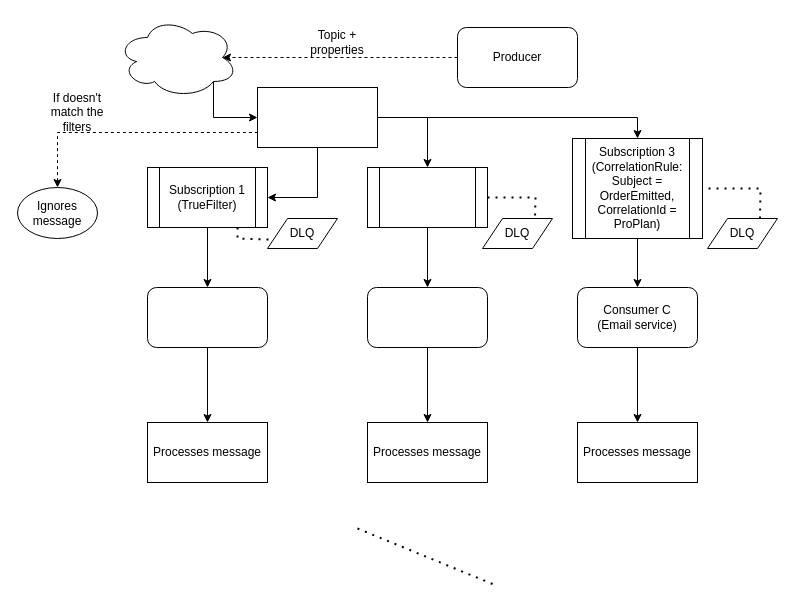
The diagram is 795 pixels wide and 605 high, and some of its shapes have lost their labels. Here are the shapes that lost their labels. From the top down, the centre of each, then its label:
At (x=177, y=57): "Service bus".
At (x=317, y=117): "Matches filters with properties and redirect to the queue".
At (x=427, y=197): "Subscription 2 (SQLRule: Amount > 1000)".
At (x=207, y=317): "Consumer A (Logging service)".
At (x=427, y=317): "Consumer B (Inventory service)".
